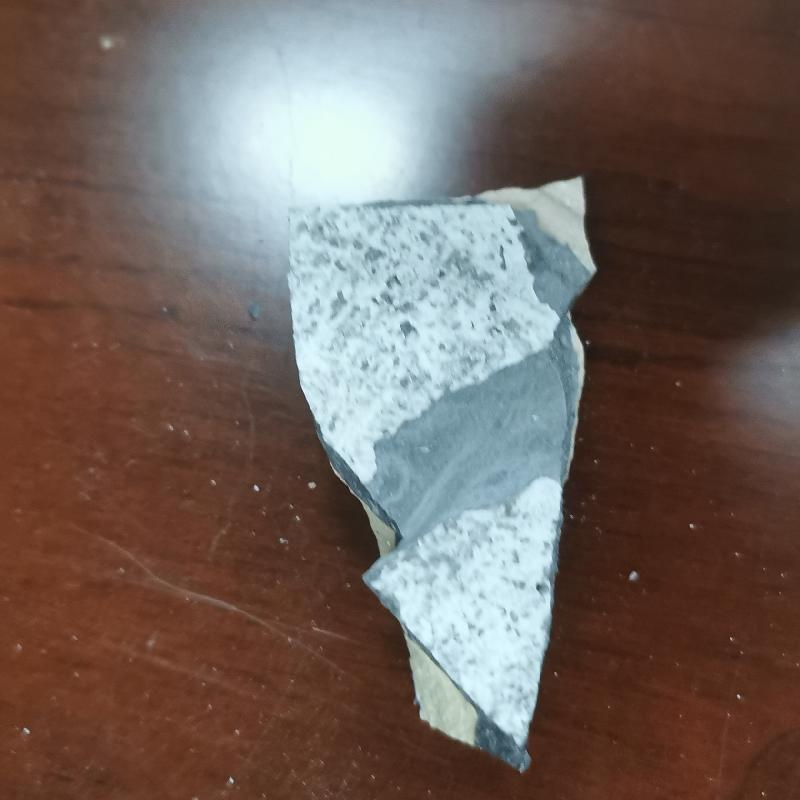tile: (277, 173, 601, 778)
